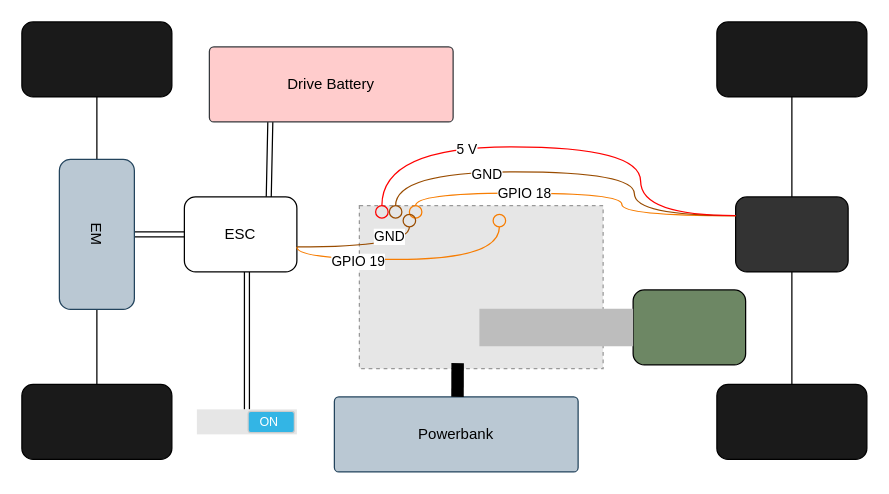
Image size: 889x494. Some labels were removed from this diagram. Grey dashed boxes stand in for pictures. Each missing label, with the centre of its shape:
Camera: point 689,327
Servo: point 791,234
